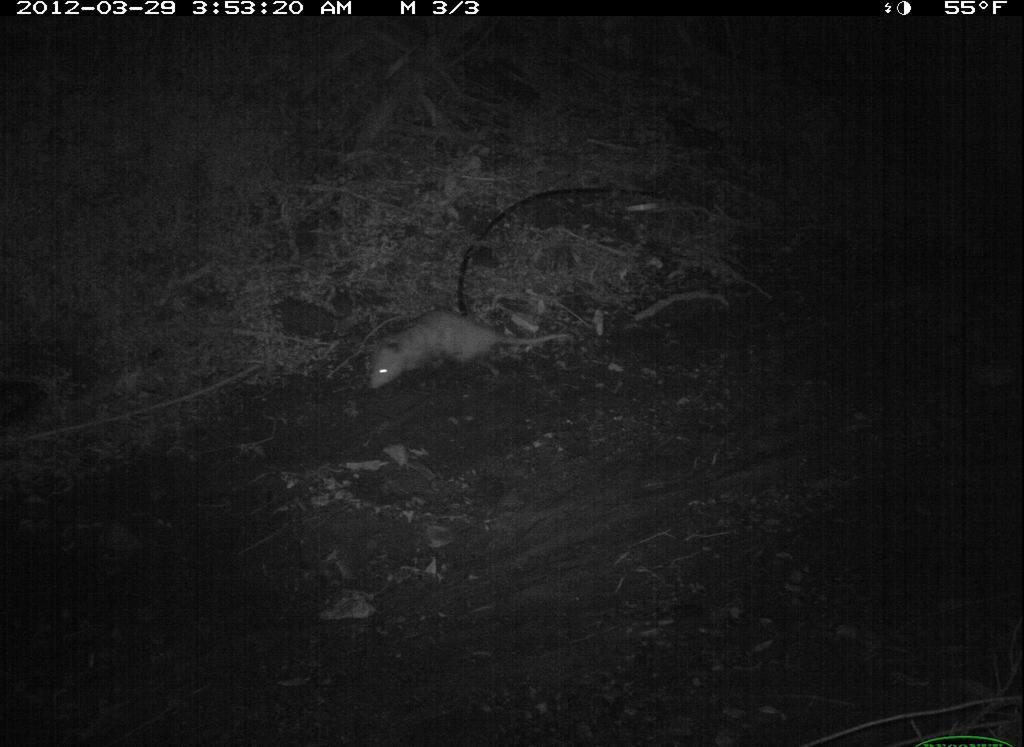opossum: (338, 290, 582, 395)
